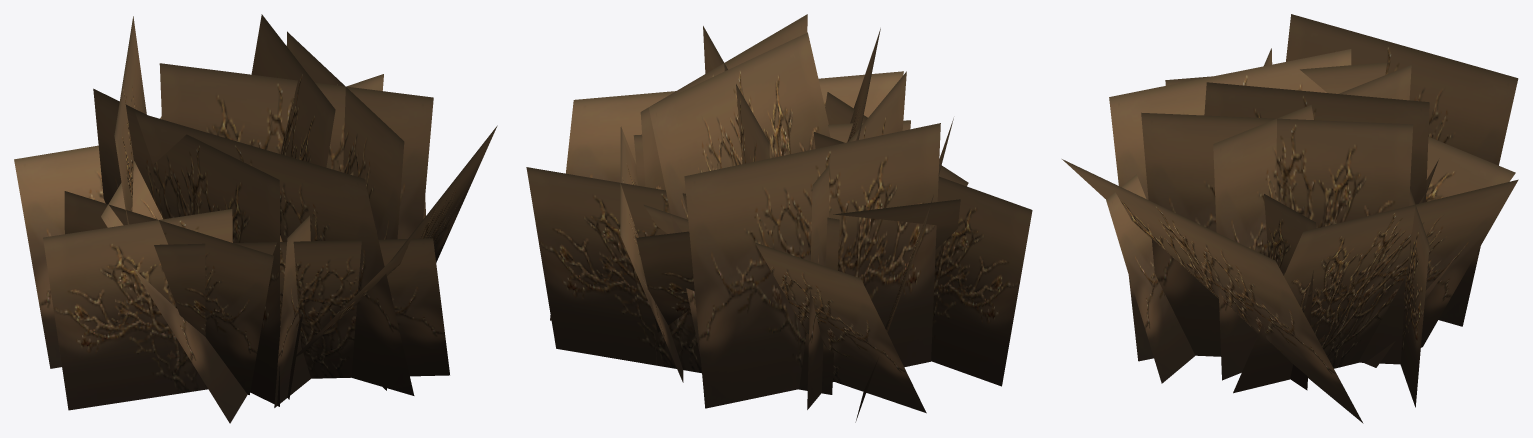
File: Gobi_Plant03.FBX
3 views of the same model, side by side, from view 1: azimuth 30°, elevation 25°; view 2: azimuth 150°, elevation 25°; view 3: azimuth 270°, elevation 25° (orthographic). The views are drawn at different scales.
Parts seen in each view (by area): view 1: Gobi_Plant03; view 2: Gobi_Plant03; view 3: Gobi_Plant03.
Boxes of the visible parts, bbox=[...] form: Gobi_Plant03: bbox=[14, 14, 497, 423]; Gobi_Plant03: bbox=[526, 14, 1032, 422]; Gobi_Plant03: bbox=[1062, 14, 1518, 423].
Size of the model in its own units: 73.79 by 41.85 by 66.87.
